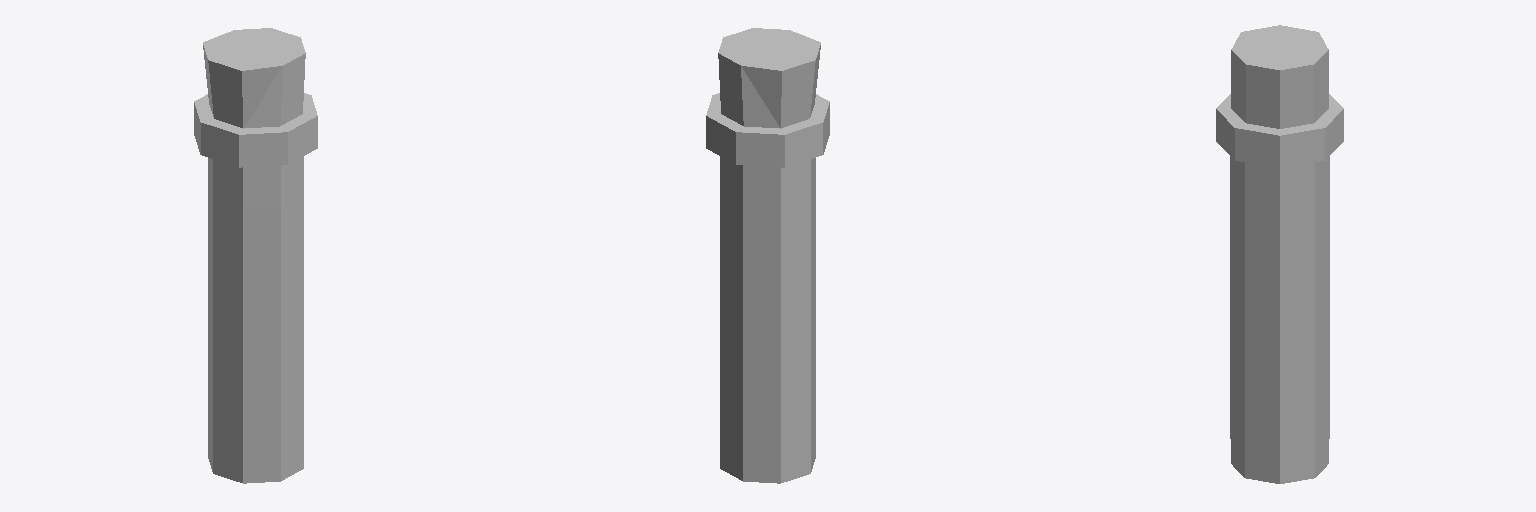
The model's file is pocao_vermelha.obj.
The picture shows the model from 3 angles: view 1: azimuth 30°, elevation 25°; view 2: azimuth 150°, elevation 25°; view 3: azimuth 270°, elevation 25°; orthographic projection.
Visible parts, largest first — view 1: Potion_Cylinder.002; view 2: Potion_Cylinder.002; view 3: Potion_Cylinder.002.
Boxes of the visible parts, box(x1,y1,x2,y2) form: Potion_Cylinder.002: box(194, 28, 317, 483); Potion_Cylinder.002: box(706, 28, 829, 483); Potion_Cylinder.002: box(1216, 25, 1343, 483).
Bounding box in the file's own units: 0.4378 × 1.56 × 0.4378.